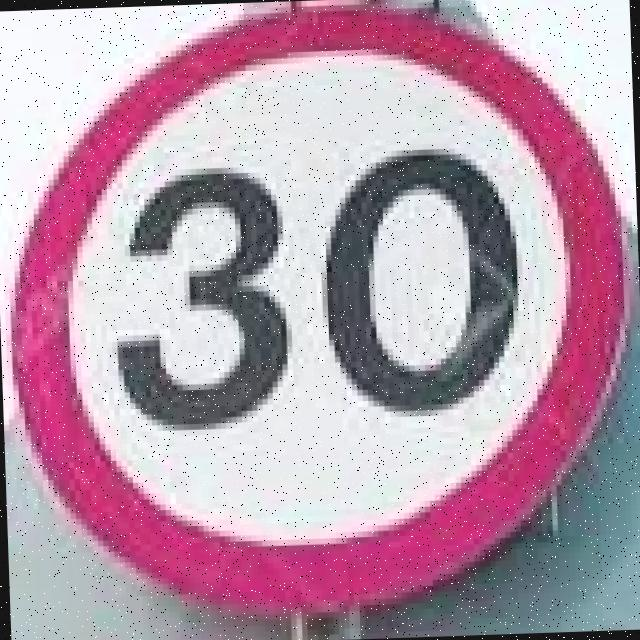Ograniczenie predkosci do 30: (0, 0, 628, 616)
